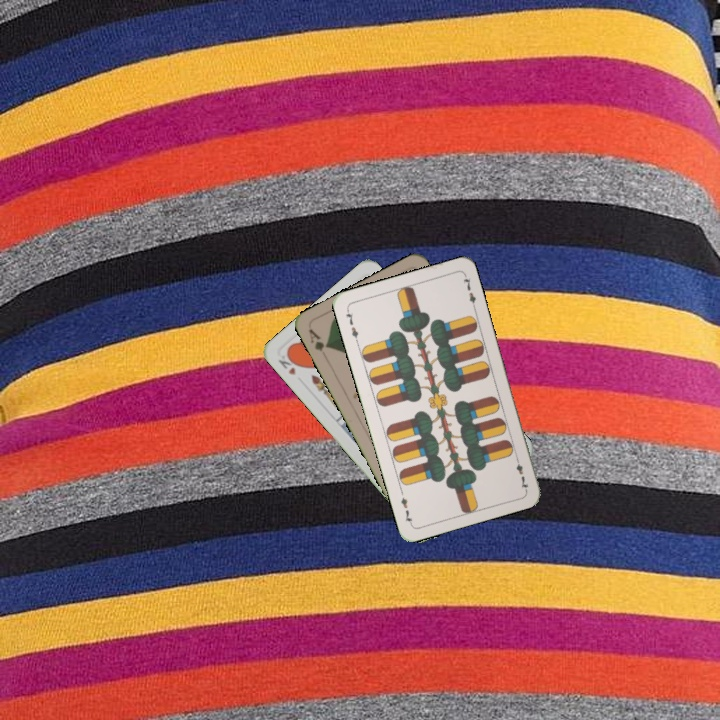E7: (342, 305, 361, 345), (512, 452, 531, 492)
GA: (304, 325, 332, 354)
HK: (274, 349, 302, 378)
